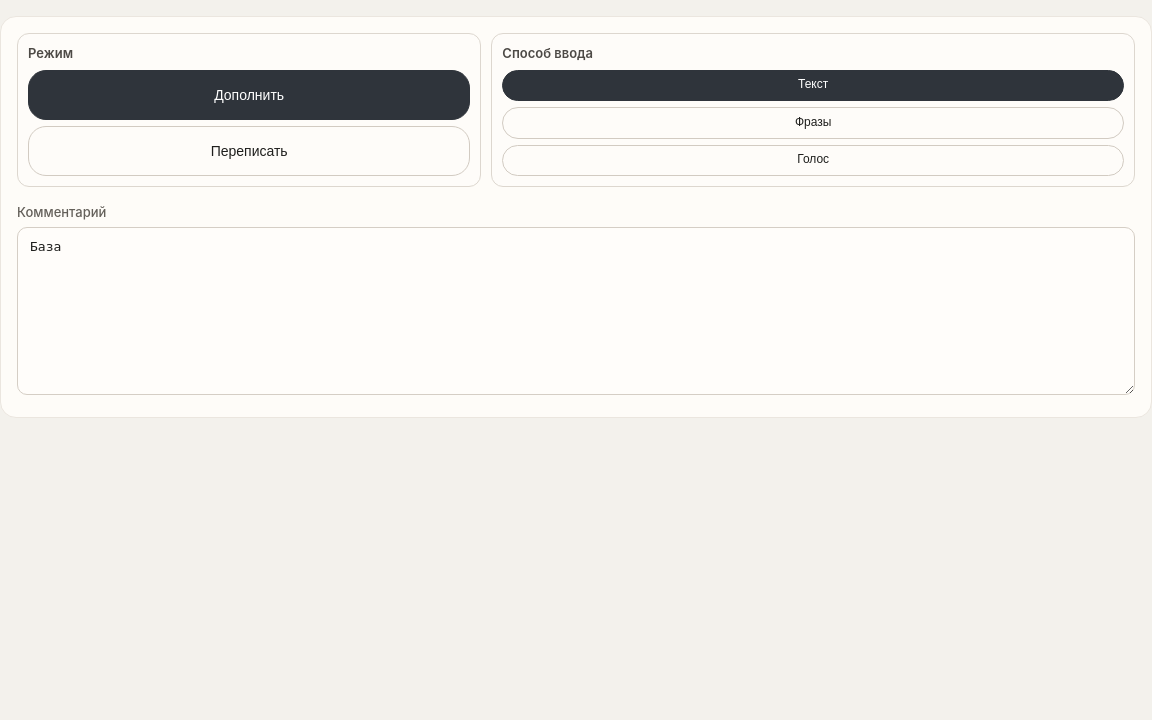
Test: CommentComposer › ignores stale callbacks from an old recognition session after a new one starts
The image size is (1152, 720).
Click the button "Голос".
click(813, 160)  # box [502,144,1124,176]
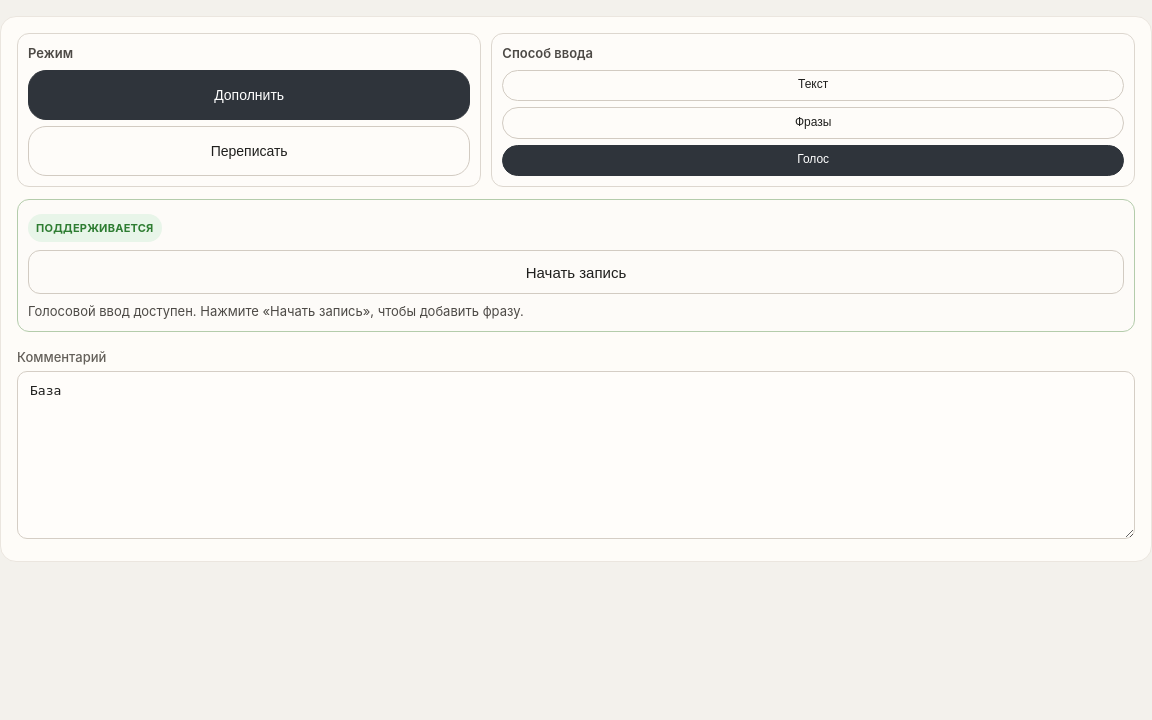
Click the button "Начать запись".
click(576, 272)  # box [28,250,1124,294]
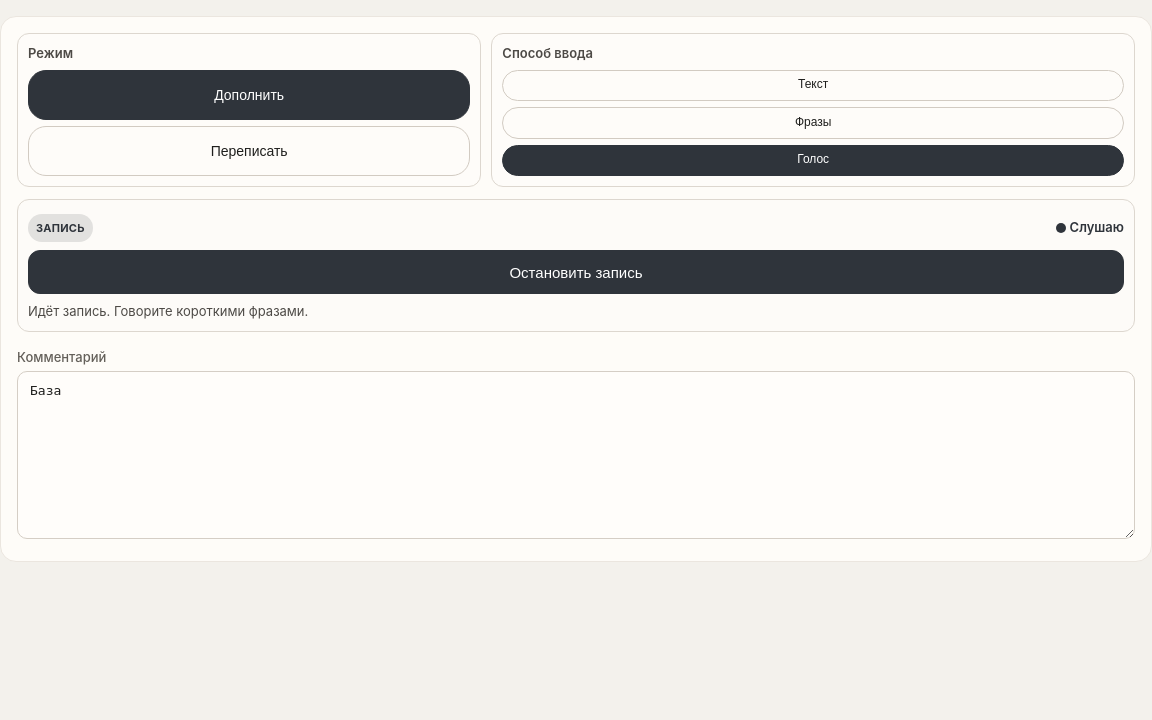
Click the button "Текст".
click(813, 85)  # box [502,70,1124,101]
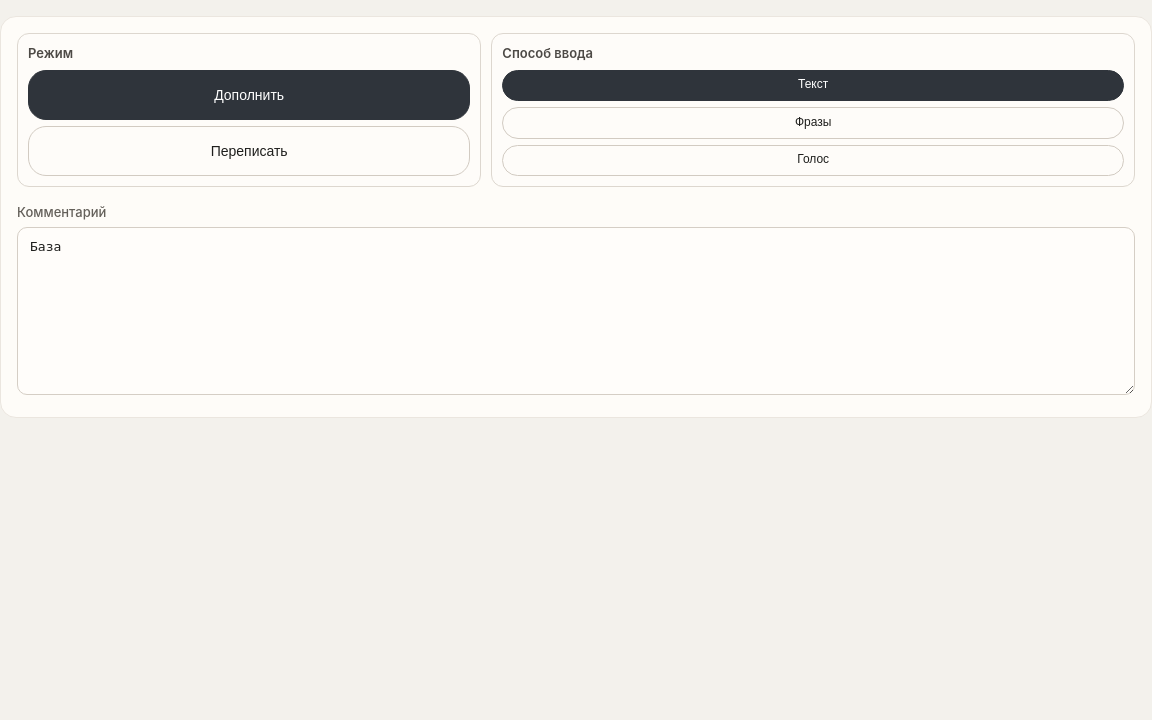
Click the button "Голос".
click(813, 160)  # box [502,144,1124,176]
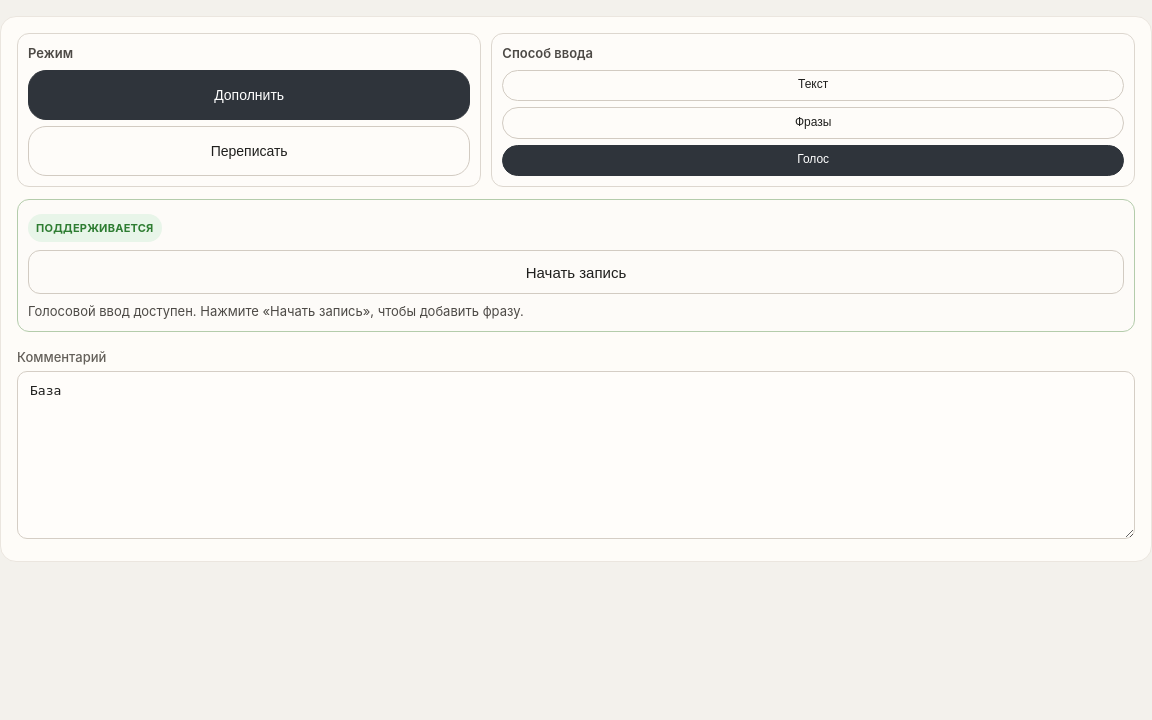
Click the button "Начать запись".
click(576, 272)  # box [28,250,1124,294]
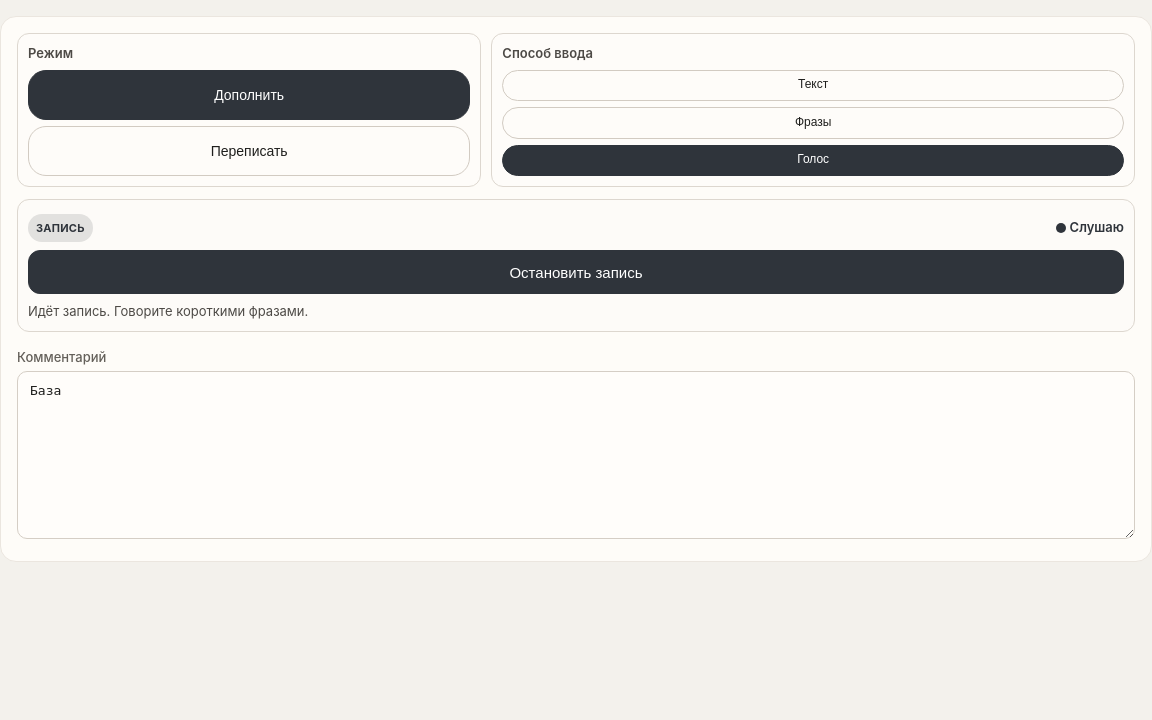
Now the text "Запись" is shown, box [28,214,93,242]
Now the text "Идёт запись. Говорите короткими фразами." is shown, box [28,303,308,319]
